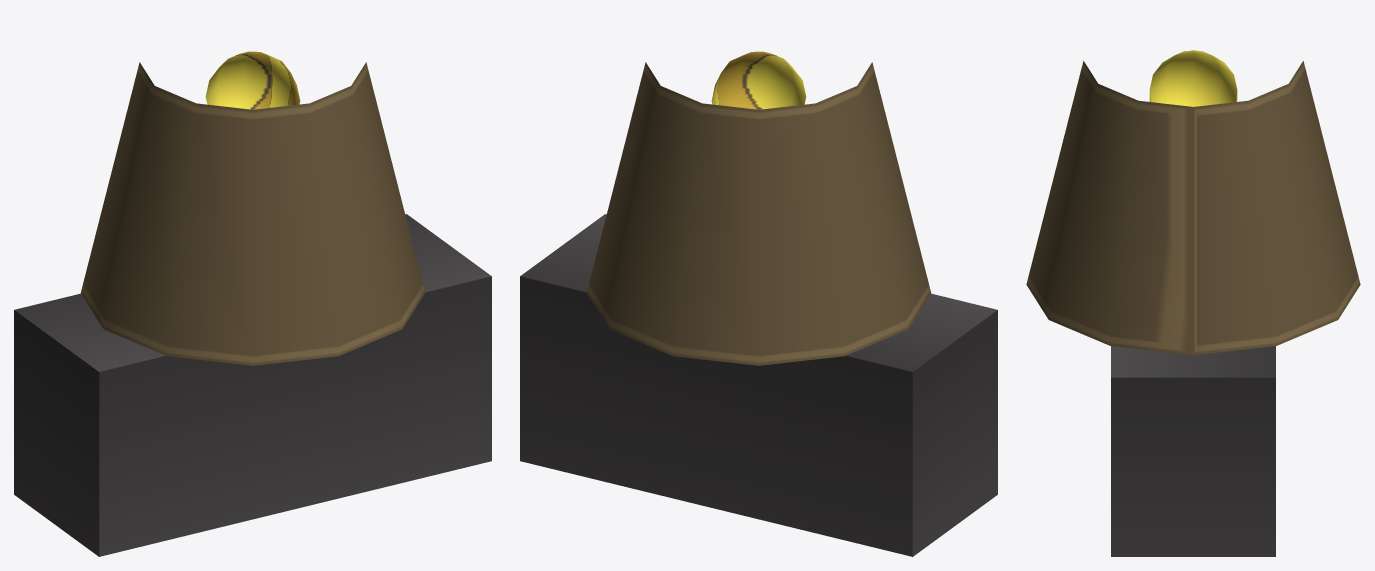
File: portcullis_gears.glb
3 views of the same model, side by side, from view 1: azimuth 30°, elevation 25°; view 2: azimuth 150°, elevation 25°; view 3: azimuth 270°, elevation 25° (orthographic). The views are drawn at different scales.
Parts seen in each view (by area): view 1: portcullis_gears; view 2: portcullis_gears; view 3: portcullis_gears.
Boxes of the visible parts, <box> form: portcullis_gears: <box>14,51,491,556</box>; portcullis_gears: <box>520,51,997,556</box>; portcullis_gears: <box>1026,50,1360,556</box>.
Size of the model in its own units: 1.6 by 1.64 by 1.22.
1 material, 1 textured.
